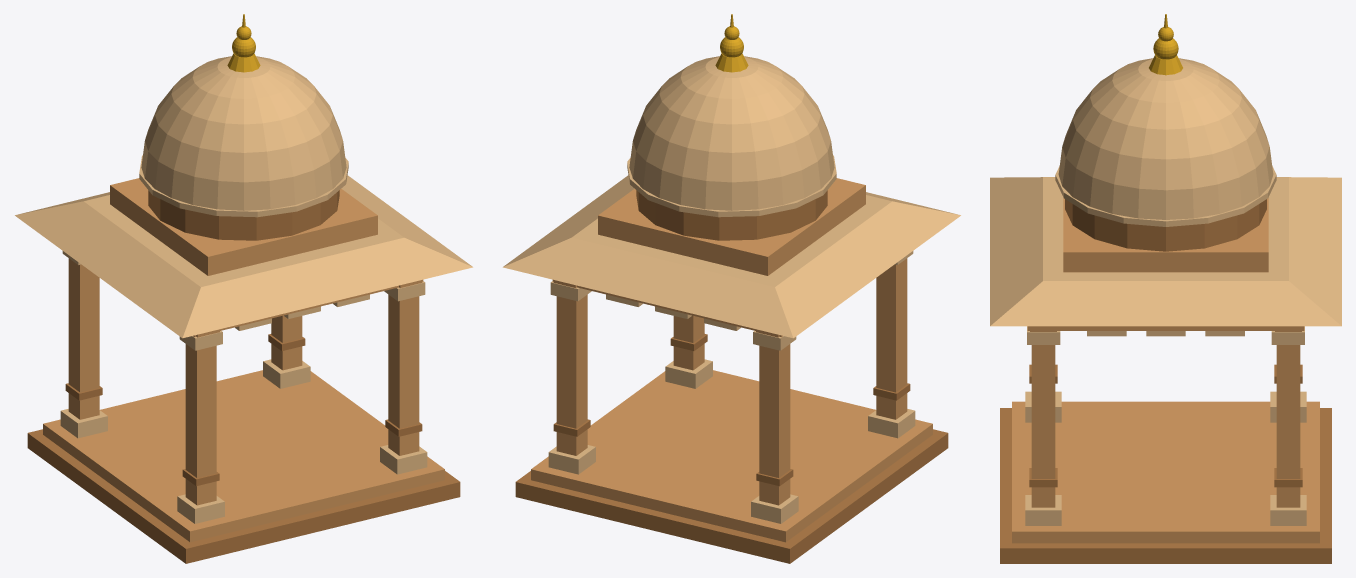
The model's file is chhatri.glb.
3 views of the same model, side by side, from view 1: azimuth 30°, elevation 25°; view 2: azimuth 150°, elevation 25°; view 3: azimuth 270°, elevation 25° (orthographic). The views are drawn at different scales.
Parts seen in each view (by area): view 1: chhatri; view 2: chhatri; view 3: chhatri.
Boxes of the visible parts, <box> form: chhatri: <box>15,14,472,563</box>; chhatri: <box>503,14,960,563</box>; chhatri: <box>990,14,1341,563</box>.
Size of the model in its own units: 4.45 by 6.7 by 4.45.
